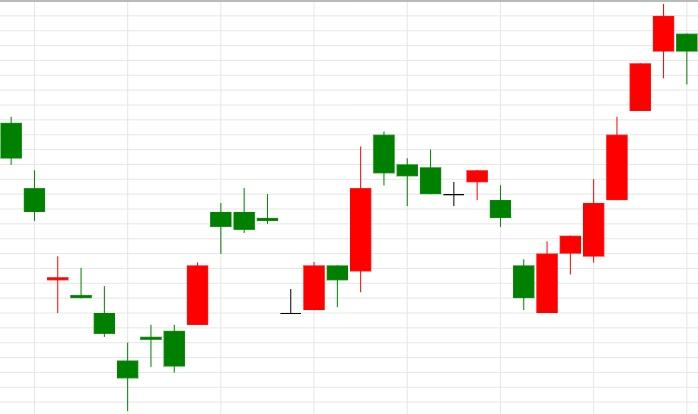bullish_engulfing_rise: (372, 131, 559, 314)
hanging_man_fall: (536, 4, 698, 314)
